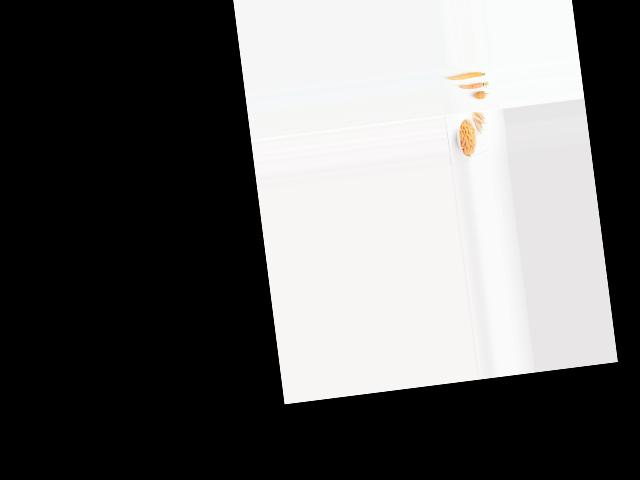carrot: (469, 90, 490, 101)
